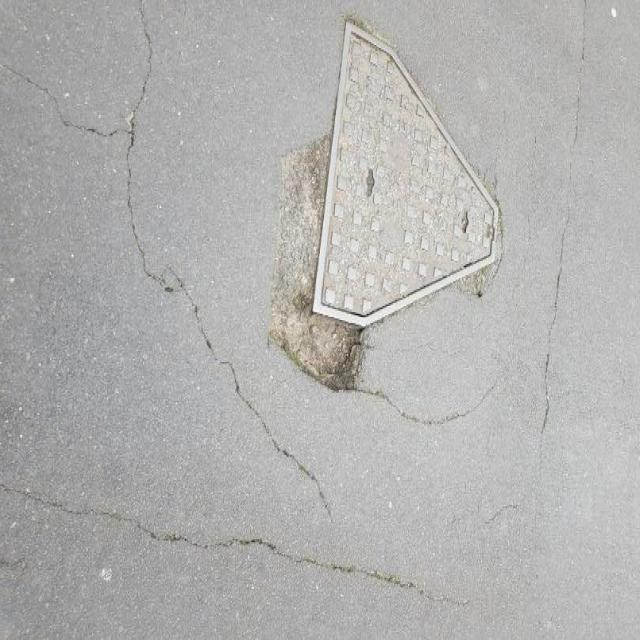Pothole: (265, 126, 372, 404)
